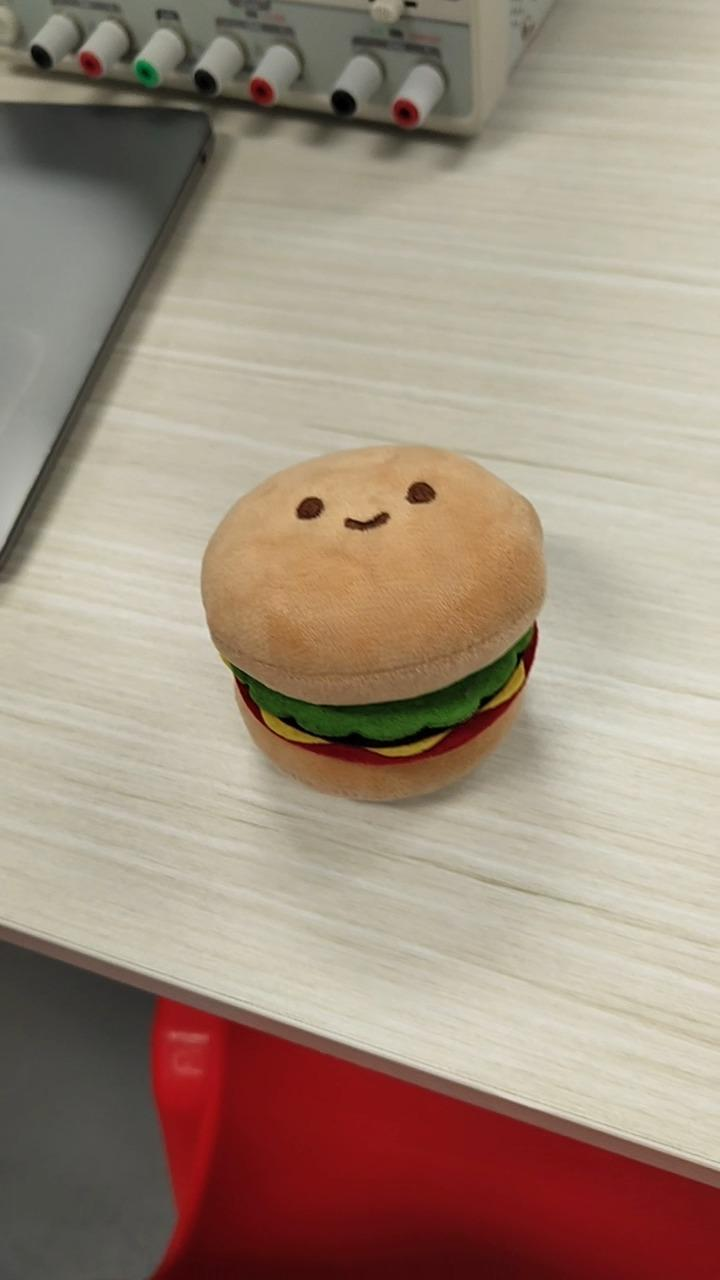hamburger: (199, 441, 547, 804)
